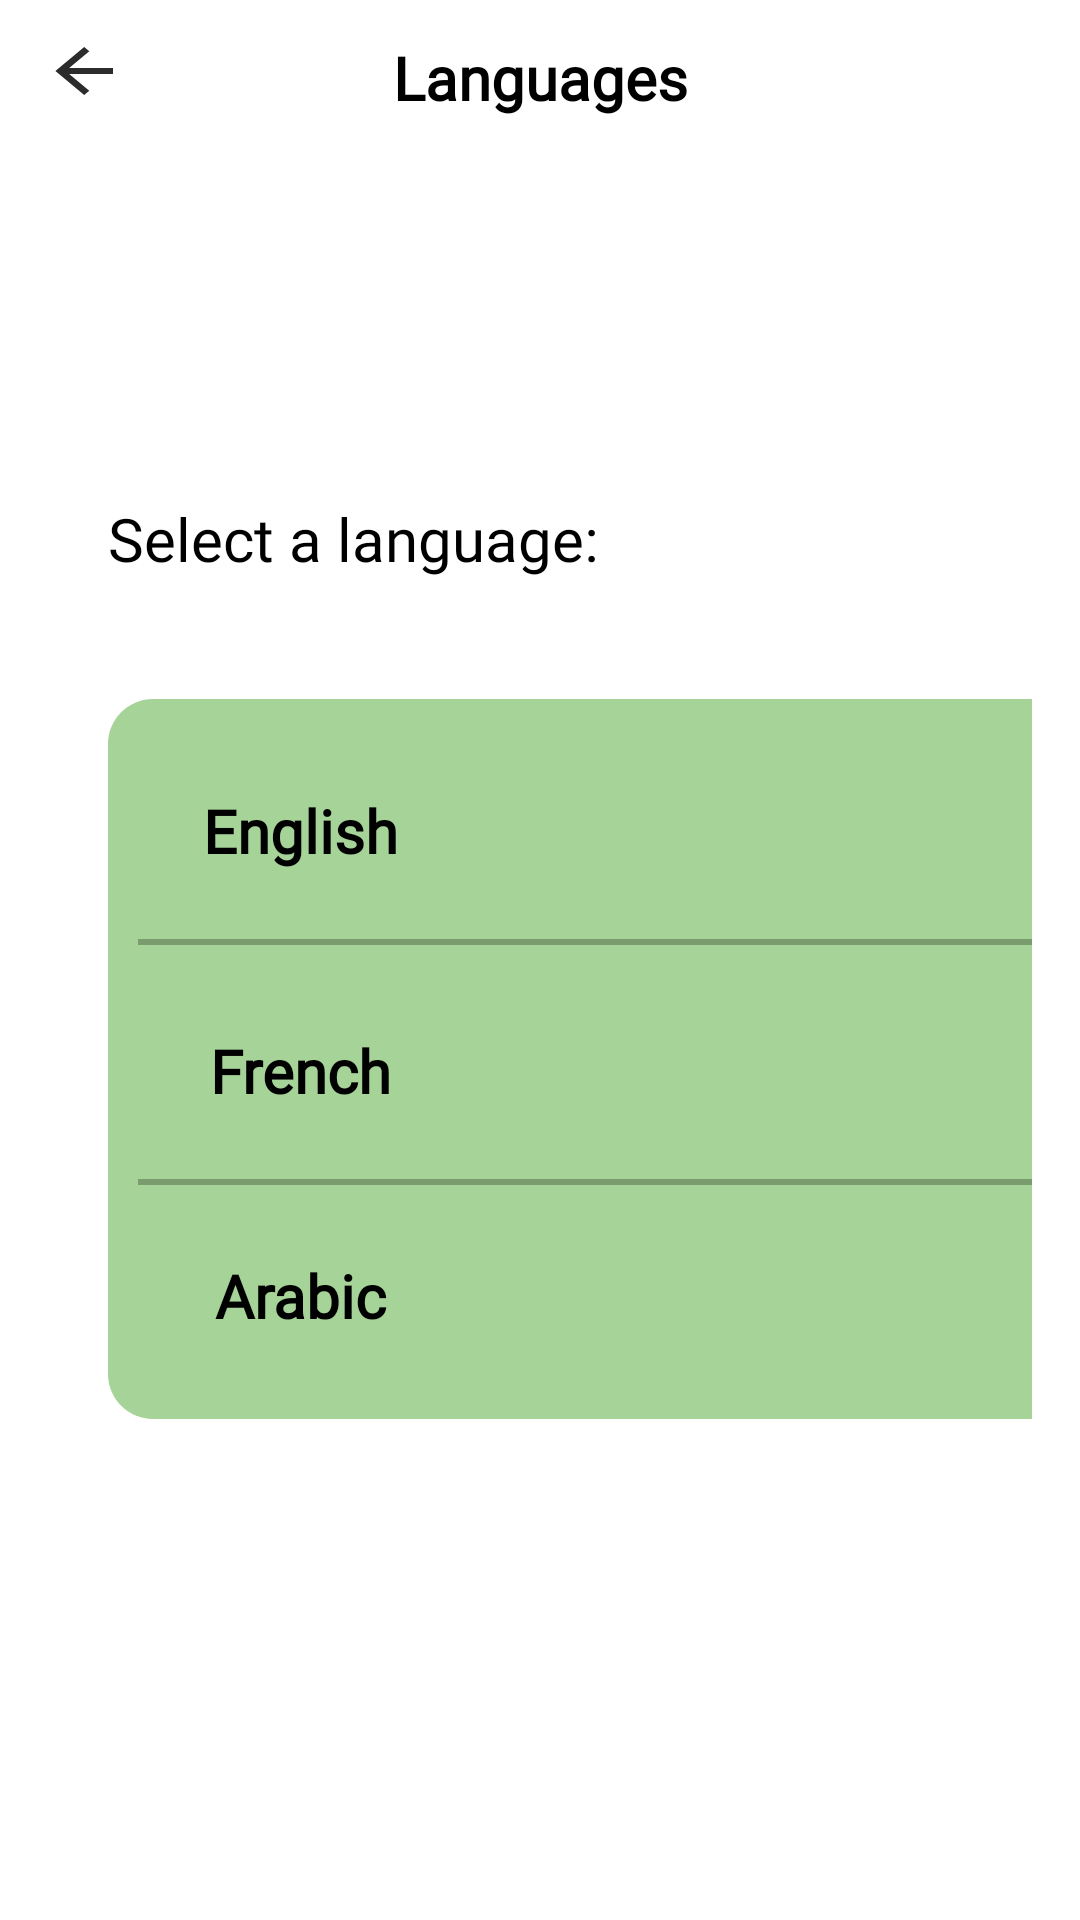

Locate icon controls on the screen. Image size 1080 × 1920, boxes as (x1, y1, x2, y2).
arrow back: (55, 47, 113, 95)
